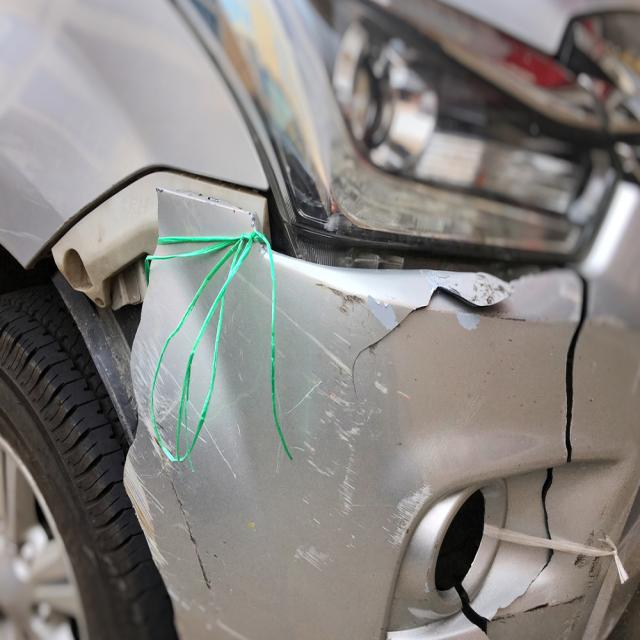crack: (452, 268, 590, 636), (351, 285, 513, 409)
scratch: (125, 322, 251, 640), (293, 321, 437, 571), (505, 532, 609, 640)
